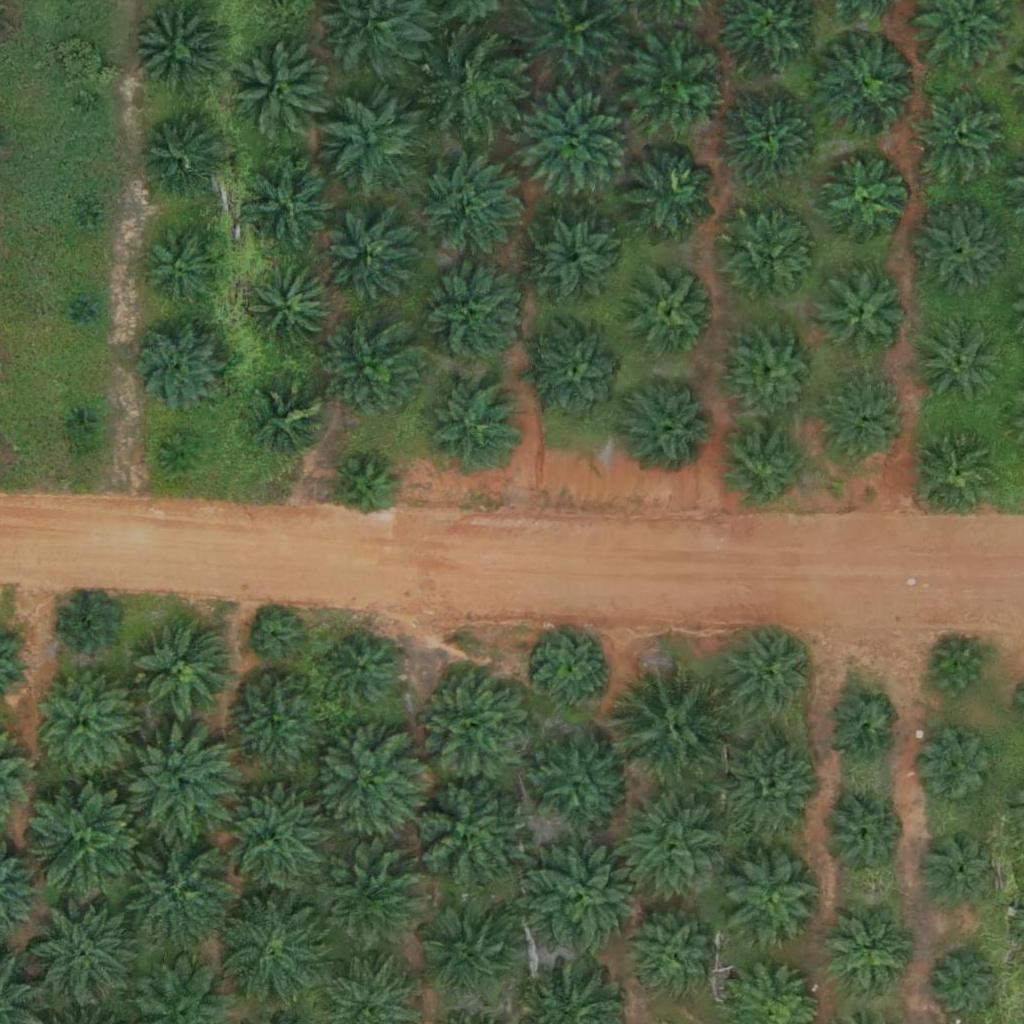Kelapa_Sawit: (26, 777, 151, 903), (109, 826, 234, 952), (214, 888, 339, 1014), (414, 661, 539, 787), (402, 772, 527, 898), (522, 836, 647, 962), (613, 662, 738, 788), (609, 785, 734, 911), (210, 780, 335, 905), (516, 93, 629, 207), (123, 726, 236, 839), (123, 311, 235, 424), (25, 895, 137, 1008), (312, 729, 424, 842), (313, 841, 425, 954), (912, 87, 1012, 188), (910, 203, 1010, 304), (818, 34, 918, 135), (721, 87, 821, 188), (629, 31, 729, 132), (320, 92, 420, 193), (229, 41, 329, 142), (237, 153, 337, 254), (324, 320, 424, 421), (418, 265, 518, 366), (423, 375, 523, 476), (34, 672, 134, 773), (134, 620, 234, 721), (223, 674, 323, 775), (422, 908, 522, 1009), (618, 143, 718, 243), (425, 36, 525, 136), (418, 157, 518, 257), (529, 324, 629, 424), (621, 375, 721, 475), (723, 321, 823, 421), (528, 733, 628, 833), (718, 625, 818, 725), (722, 741, 822, 841), (722, 848, 822, 948), (141, 222, 229, 311), (820, 158, 908, 246), (526, 216, 614, 304), (138, 114, 226, 202), (247, 266, 335, 354), (820, 271, 908, 359), (822, 377, 910, 465), (918, 317, 1006, 405), (915, 427, 1003, 515), (824, 911, 912, 999), (819, 790, 906, 878), (726, 217, 813, 305), (327, 218, 414, 306), (132, 8, 219, 96), (629, 267, 716, 355), (723, 424, 810, 512), (630, 915, 717, 1003), (923, 829, 998, 905), (535, 630, 610, 706), (823, 690, 898, 766), (921, 732, 996, 807), (254, 384, 329, 459), (326, 633, 401, 708), (333, 457, 396, 520), (56, 595, 119, 658), (926, 638, 988, 701), (251, 612, 301, 662), (163, 433, 201, 471), (79, 93, 104, 118), (73, 209, 98, 234), (74, 298, 99, 323), (67, 408, 92, 433)
